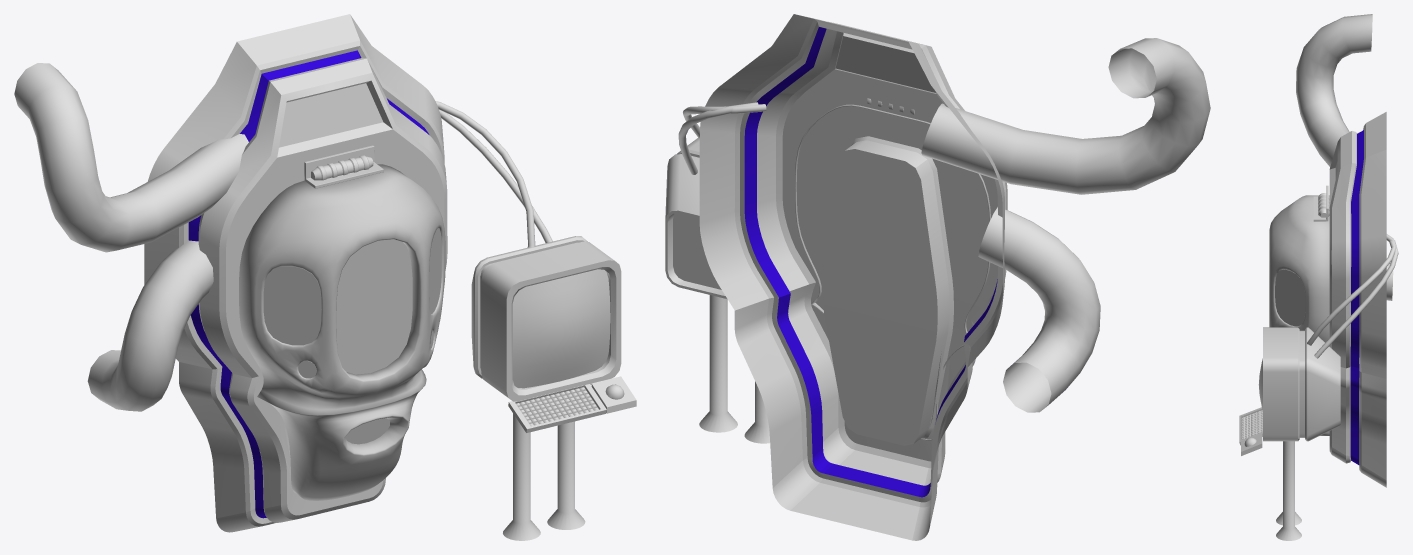
File: CryoChamberSeperateWindows.fbx
The picture shows the model from 3 angles, left to right: view 1: azimuth 30°, elevation 25°; view 2: azimuth 150°, elevation 25°; view 3: azimuth 270°, elevation 25°; orthographic projection. The views are drawn at different scales.
Visible parts, largest first — view 1: CryoGear, Door, Windows, HingePlate, HingeBearing_low; view 2: CryoGear, Door; view 3: CryoGear, Door, Windows, HingePlate, HingeBearing_low.
Part boxes in pixels (left/top/right/bottom): CryoGear: left=14, top=14, right=636, bottom=540; Door: left=239, top=164, right=445, bottom=500; Windows: left=263, top=228, right=441, bottom=444; HingePlate: left=304, top=145, right=383, bottom=188; HingeBearing_low: left=311, top=155, right=373, bottom=180; CryoGear: left=665, top=14, right=1210, bottom=540; Door: left=795, top=104, right=990, bottom=440; CryoGear: left=1239, top=14, right=1398, bottom=540; Door: left=1269, top=195, right=1329, bottom=435; Windows: left=1275, top=269, right=1305, bottom=326; HingePlate: left=1313, top=185, right=1328, bottom=221; HingeBearing_low: left=1318, top=193, right=1329, bottom=217.
Bounding box in the file's own units: 182 × 68.09 × 171.
